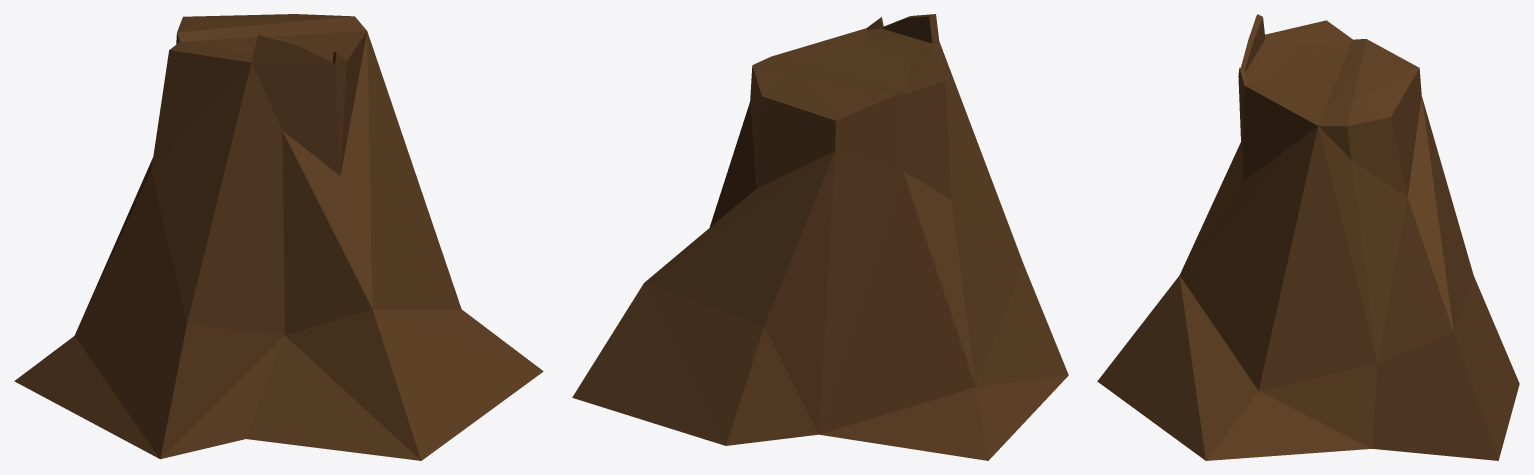
Rendered from tree-beech-stump-a.gltf.
3 renders of one model, left to right at view 1: azimuth 30°, elevation 25°; view 2: azimuth 150°, elevation 25°; view 3: azimuth 270°, elevation 25°, orthographic. The views are drawn at different scales.
Parts seen in each view (by area): view 1: tree-beech-stump-a; view 2: tree-beech-stump-a; view 3: tree-beech-stump-a.
Part boxes in pixels (box(x1,y1,x2,y2)): tree-beech-stump-a: box(14, 14, 543, 460); tree-beech-stump-a: box(572, 14, 1068, 460); tree-beech-stump-a: box(1097, 14, 1519, 460).
Size of the model in its own units: 0.00835 by 0.0074 by 0.00844.
